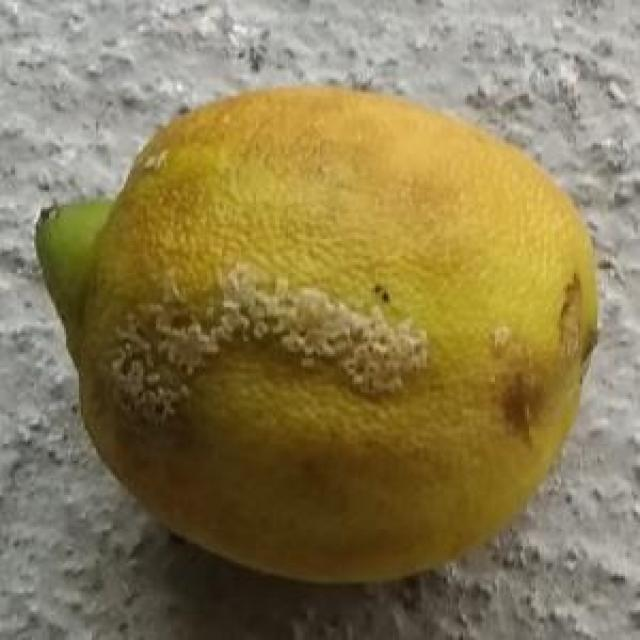lemon: (29, 82, 602, 586)
